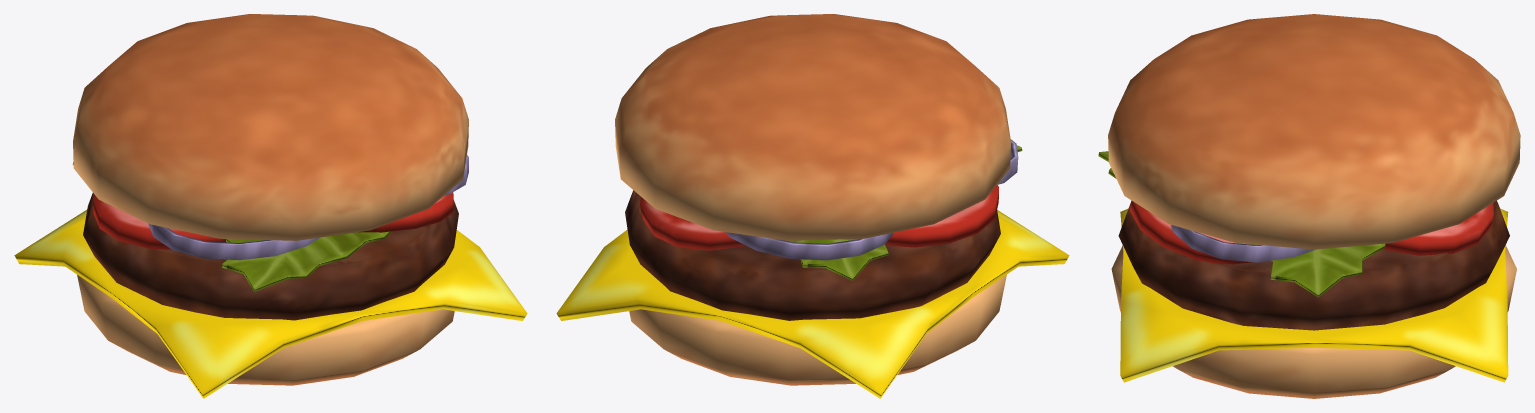
Rendered from burger_001.fbx.
The picture shows the model from 3 angles, left to right: view 1: azimuth 30°, elevation 25°; view 2: azimuth 150°, elevation 25°; view 3: azimuth 270°, elevation 25°; orthographic projection. The views are drawn at different scales.
Visible parts, largest first — view 1: burger_001; view 2: burger_001; view 3: burger_001.
Part boxes in pixels (x1,y1,x2,y2): burger_001: (14, 14, 527, 398); burger_001: (556, 14, 1069, 398); burger_001: (1098, 14, 1520, 398).
Size of the model in its own units: 1.75 by 1.21 by 1.69.
Materials: 1 (1 with a texture image).
